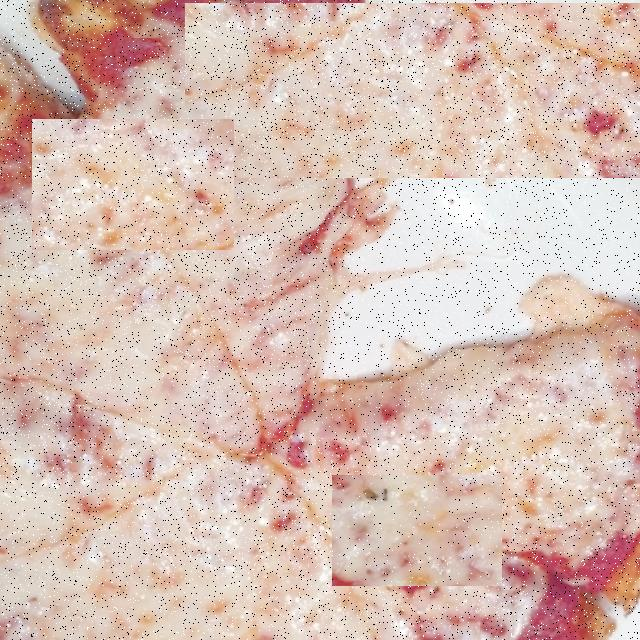Cheese: (185, 3, 640, 178), (357, 200, 630, 450), (32, 120, 234, 252), (332, 475, 502, 586)
Pizza: (0, 0, 640, 640)
